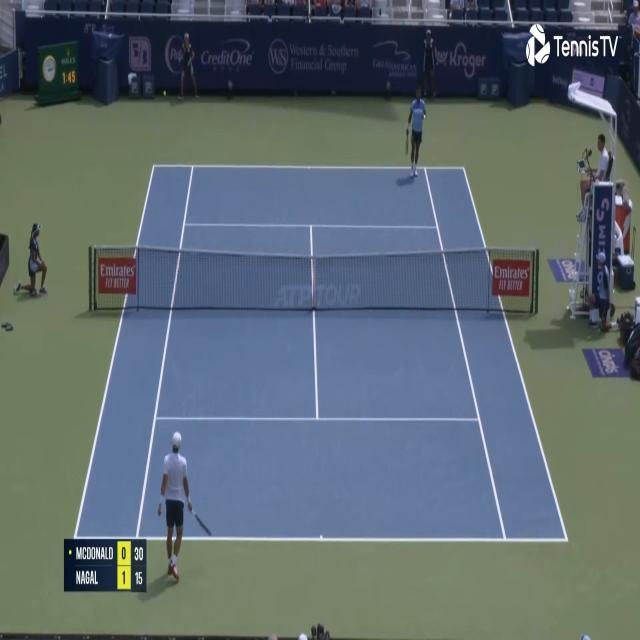tennis-player: (155, 428, 215, 585), (403, 82, 428, 180)
